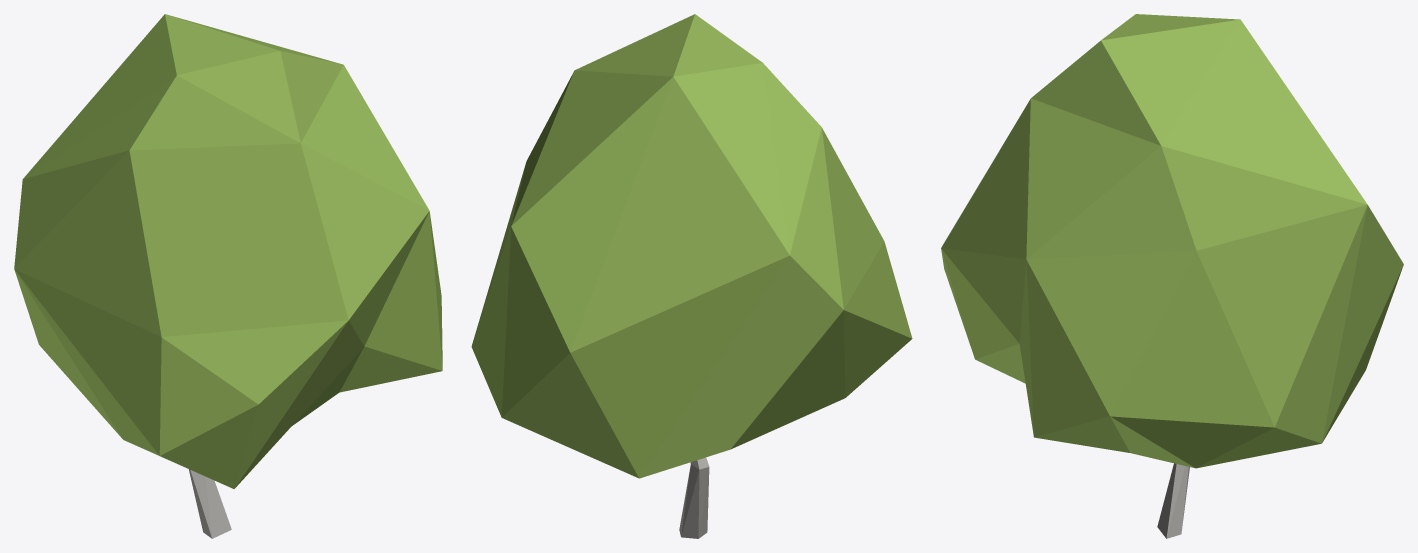
The model's file is FraxinusAmericana.glb.
3 views of the same model, side by side, from view 1: azimuth 30°, elevation 25°; view 2: azimuth 150°, elevation 25°; view 3: azimuth 270°, elevation 25° (orthographic). The views are drawn at different scales.
Visible parts, largest first — view 1: Crown, Trunk; view 2: Crown, Trunk; view 3: Crown, Trunk.
Part boxes in pixels (x1,y1,x2,y2): Crown: (14, 14, 442, 488); Trunk: (188, 469, 231, 538); Crown: (471, 14, 912, 478); Trunk: (679, 457, 709, 538); Crown: (941, 14, 1403, 468); Trunk: (1157, 463, 1189, 538).
Size of the model in its own units: 19.62 by 24.95 by 20.66.
